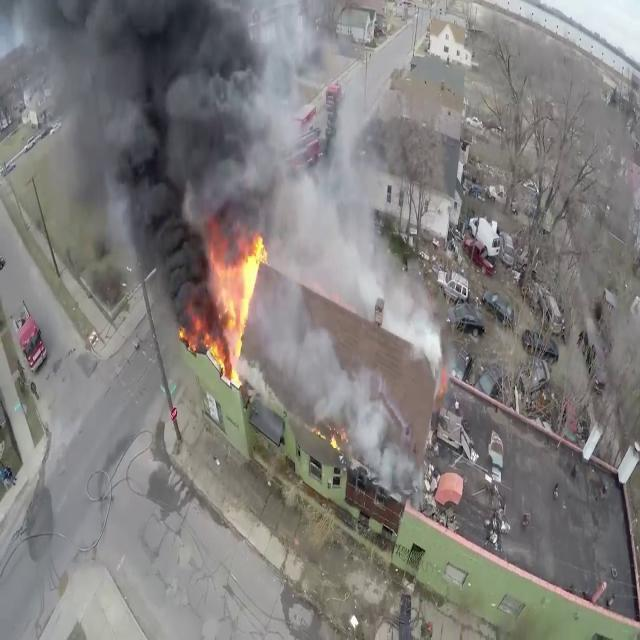Fire: (204, 224, 268, 382)
Smoke: (35, 0, 424, 306), (262, 296, 392, 476)
